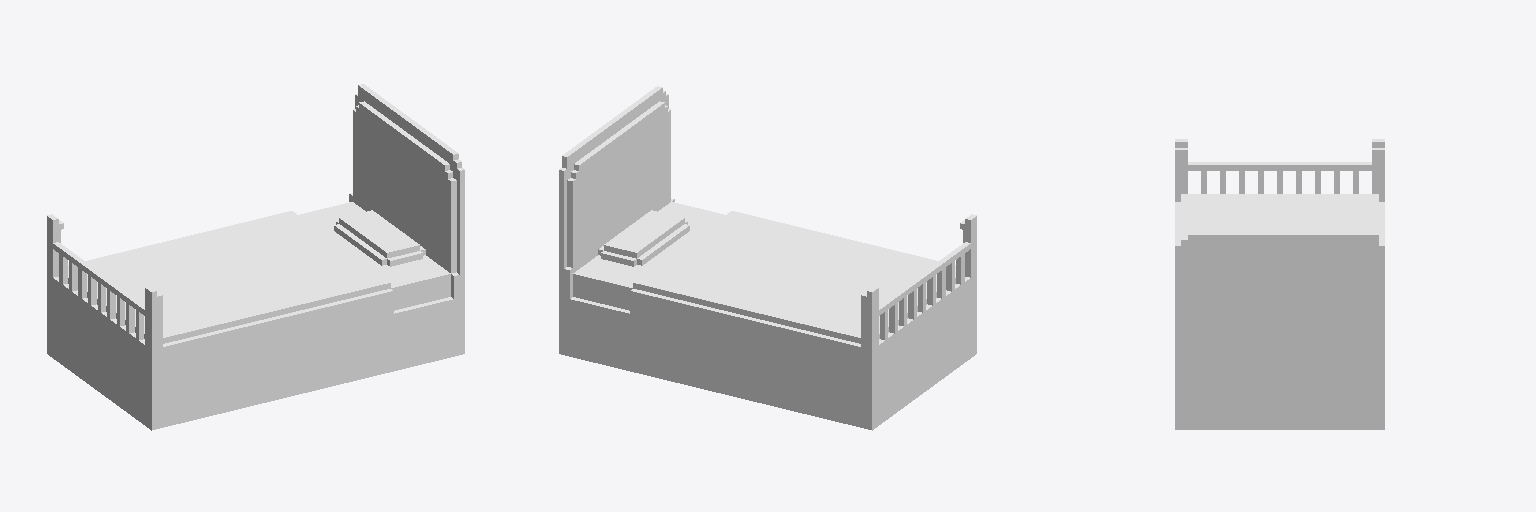
File: Decor-36.obj
3 views of the same model, side by side, from view 1: azimuth 30°, elevation 25°; view 2: azimuth 150°, elevation 25°; view 3: azimuth 270°, elevation 25° (orthographic).
Parts seen in each view (by area): view 1: object 1; view 2: object 1; view 3: object 1.
Boxes of the visible parts, box(x1,y1,x2,y2) form: object 1: box(47, 84, 464, 430); object 1: box(559, 86, 976, 430); object 1: box(1175, 139, 1384, 429).
Bounding box in the file's own units: 5.7 × 3.4 × 3.3.